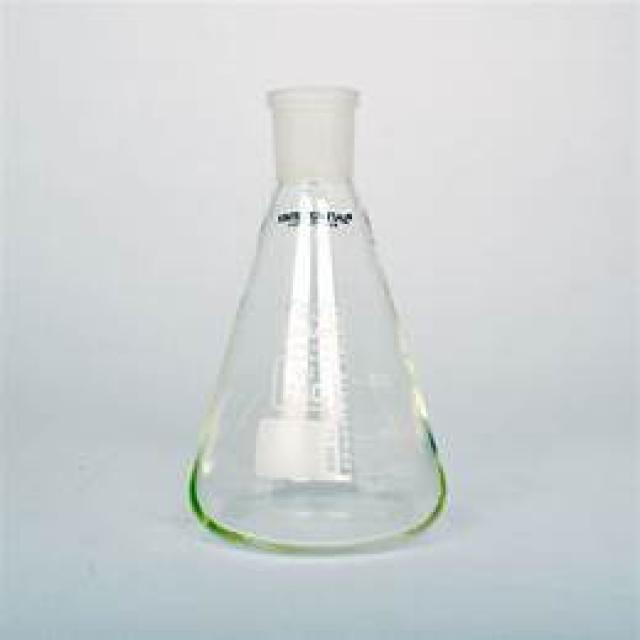Titrarion: (179, 73, 455, 560)
